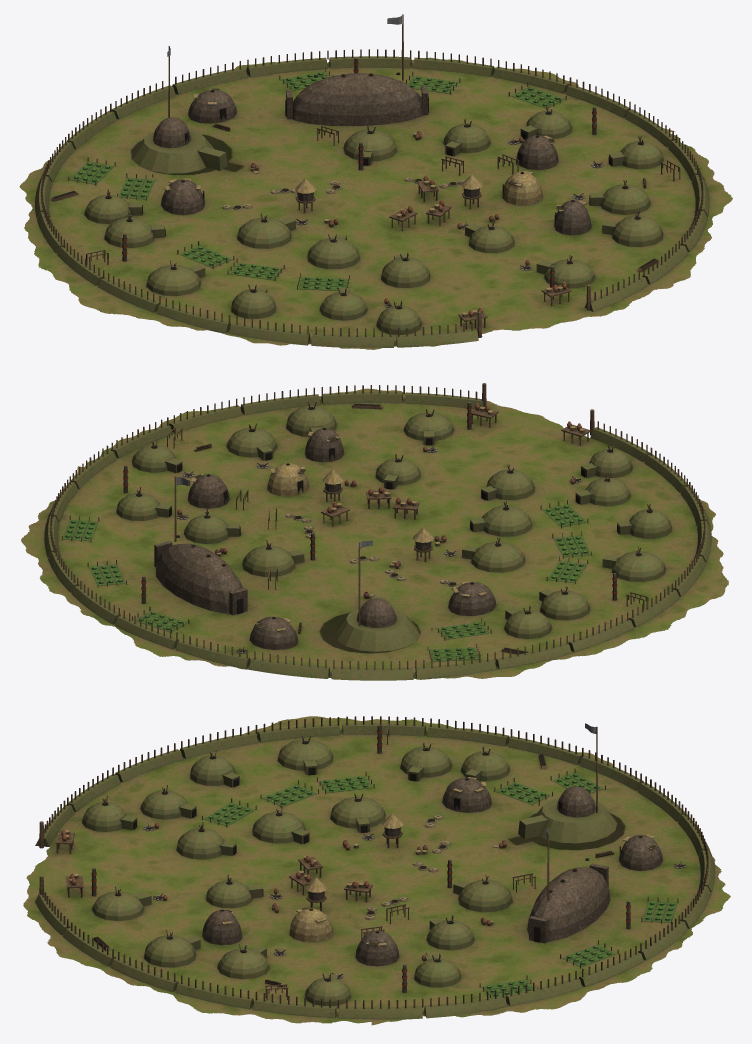
The model's file is stone-town-big-b-americas.glb.
The picture shows the model from 3 angles, top to bottom: view 1: azimuth 30°, elevation 25°; view 2: azimuth 150°, elevation 25°; view 3: azimuth 270°, elevation 25°; orthographic projection. The views are drawn at different scales.
Visible parts, largest first — view 1: LOD0; view 2: LOD0; view 3: LOD0.
Boxes of the visible parts, bbox=[...] form: LOD0: bbox=[19, 14, 732, 349]; LOD0: bbox=[21, 383, 728, 680]; LOD0: bbox=[23, 716, 730, 1025].
Size of what is drawn, in the model's own units: 7.99 by 1.23 by 7.75.
3 materials, 3 textured.
